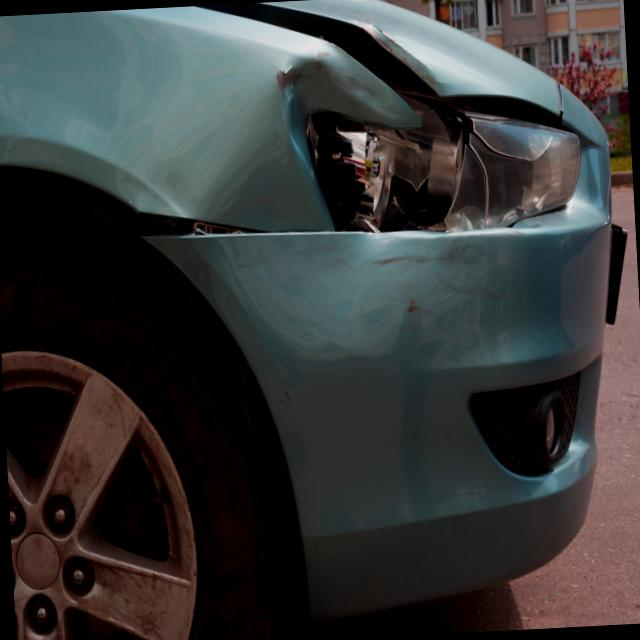Cabossage: (168, 123, 424, 372), (273, 47, 400, 136)
Dechirure: (352, 11, 468, 135)
Phare abime: (293, 95, 587, 249)
Rayure: (361, 221, 502, 330), (251, 42, 342, 126)
